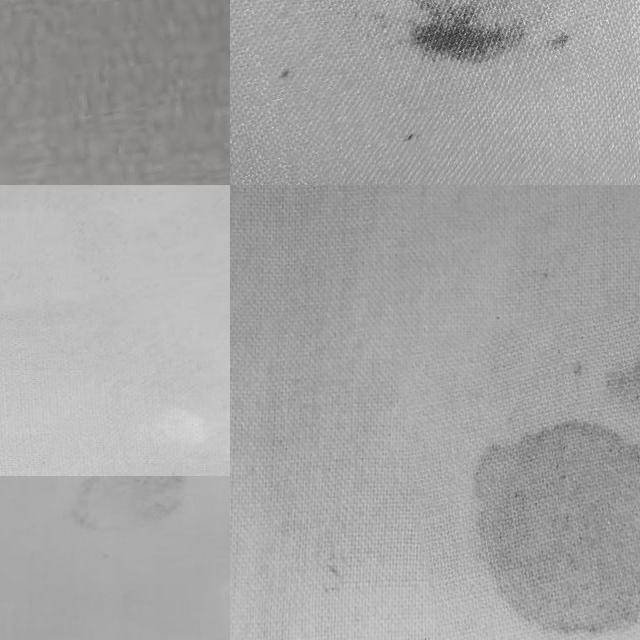Hole: (405, 308, 640, 640), (342, 0, 627, 105), (382, 119, 462, 177), (265, 28, 313, 118)
